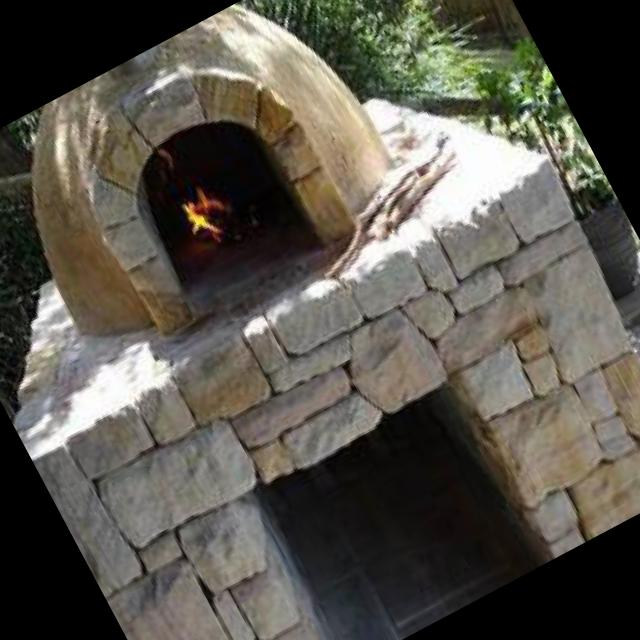fire: (158, 163, 250, 264)
